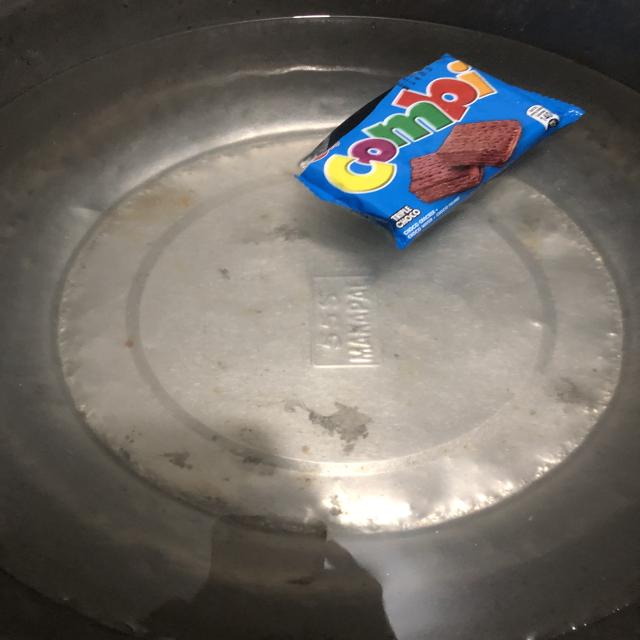Plastic Wrapper: (298, 54, 585, 249)
